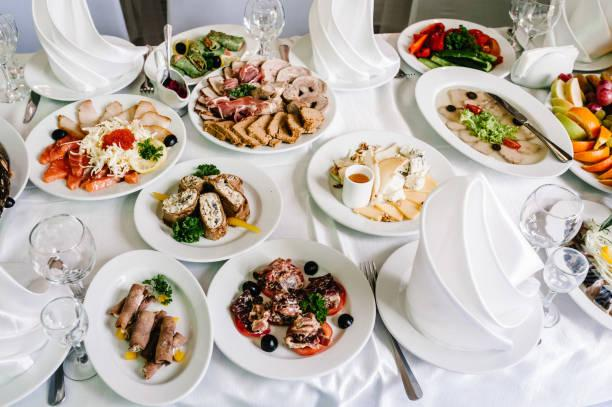Braised Crucian Carp: (205, 238, 371, 381), (81, 251, 210, 406), (415, 66, 573, 177), (23, 95, 182, 201), (305, 130, 449, 236), (132, 158, 278, 260), (187, 62, 330, 154), (395, 17, 514, 78), (150, 20, 262, 82)
